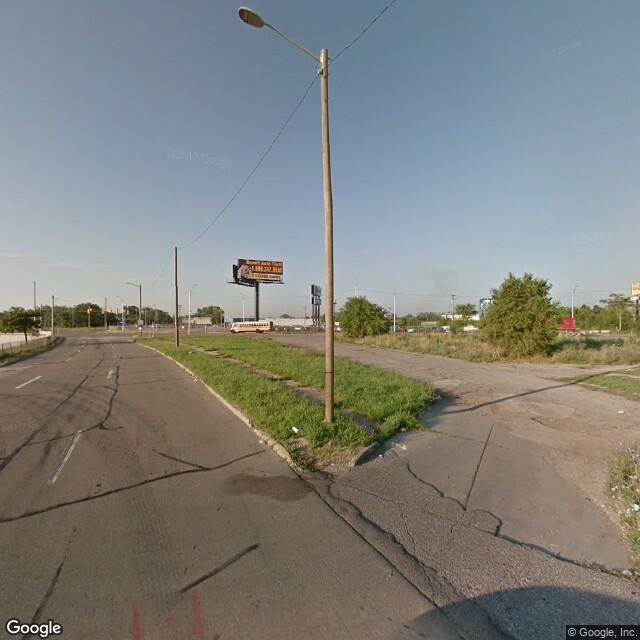litter: (288, 424, 299, 435), (399, 424, 409, 436), (376, 452, 384, 461), (259, 438, 265, 446), (193, 375, 199, 383), (618, 408, 624, 415)
